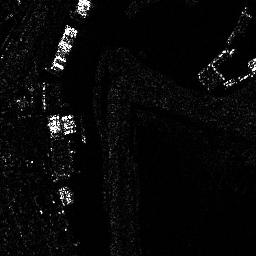ship: (64, 23, 77, 39)
